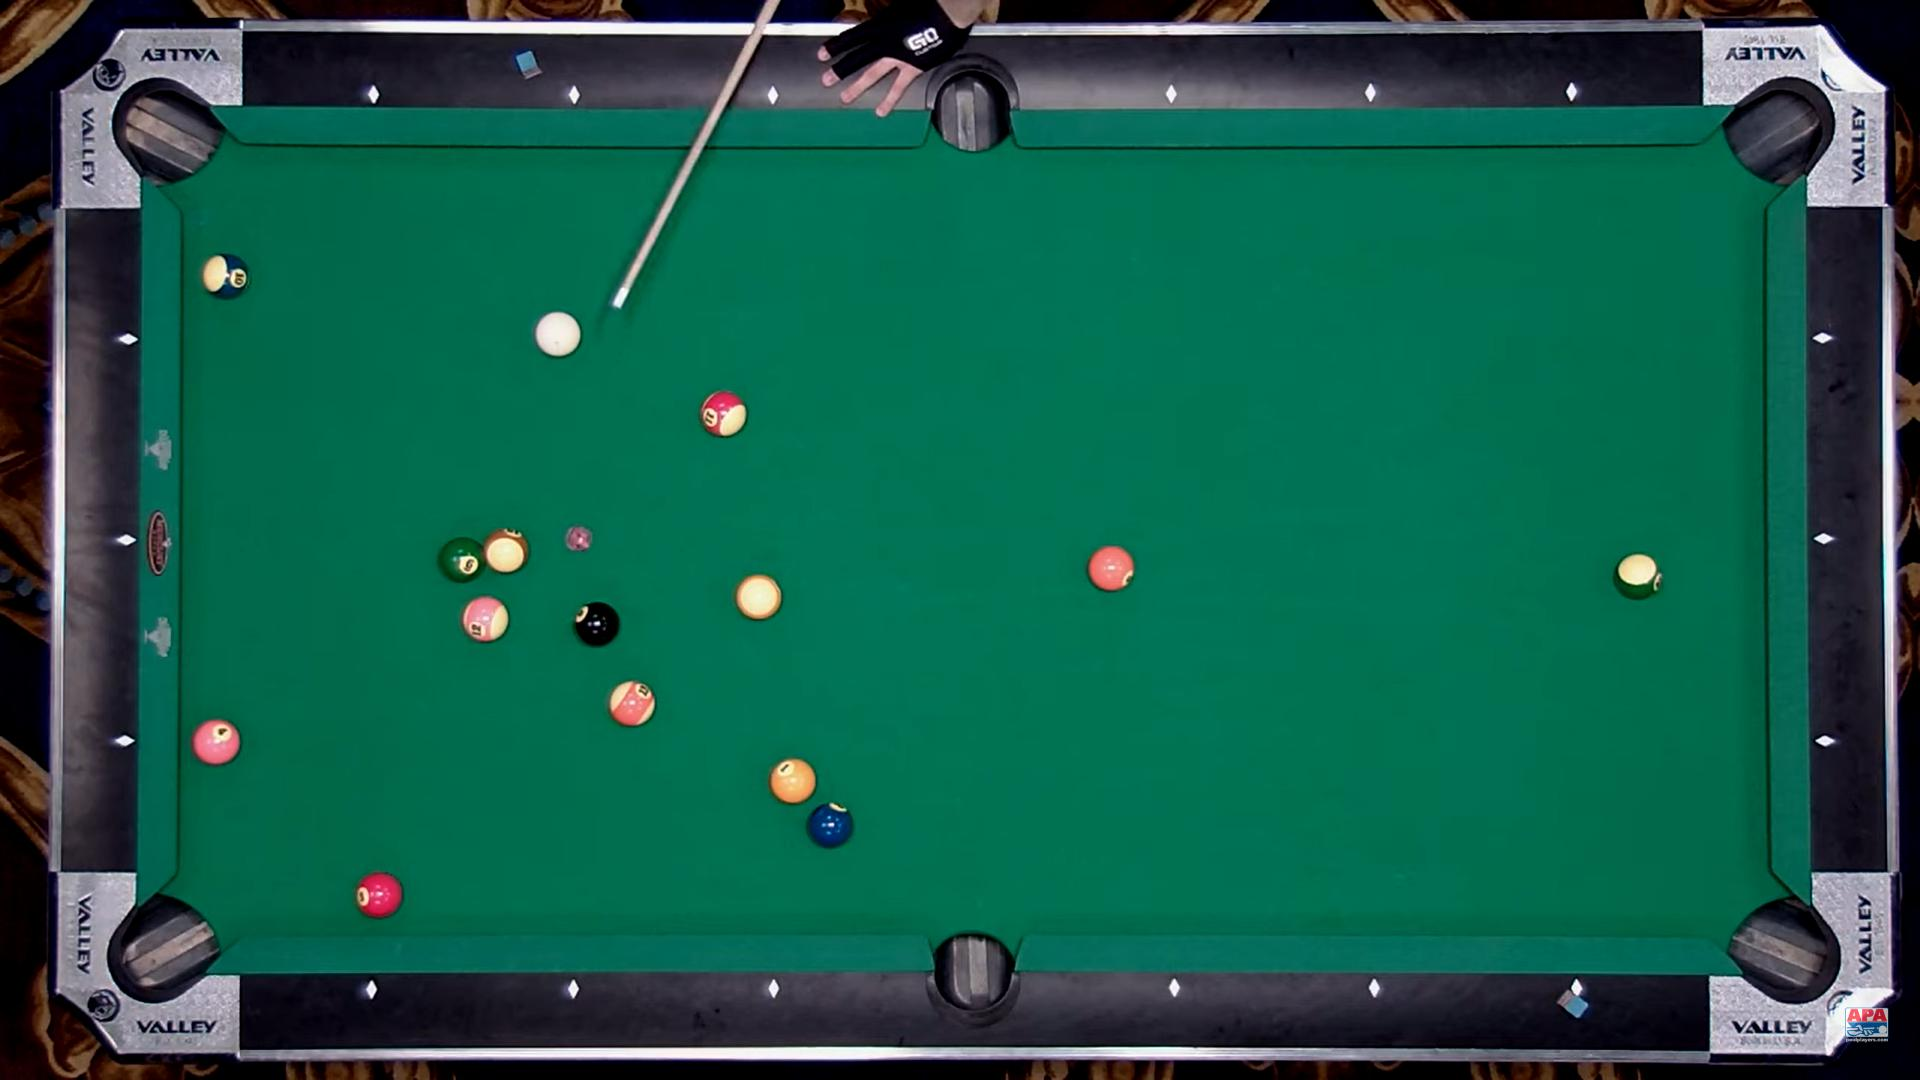Black: (575, 602, 620, 646)
Cue: (535, 312, 581, 356)
Dot: (1363, 86, 1378, 100), (1569, 982, 1583, 997), (1366, 981, 1380, 996), (1166, 980, 1180, 995), (766, 982, 781, 996), (565, 982, 579, 997), (118, 734, 132, 748), (120, 534, 134, 548), (120, 331, 134, 345), (366, 86, 380, 100), (568, 89, 582, 103), (767, 89, 781, 103), (1164, 88, 1178, 102), (1566, 85, 1580, 99), (1816, 332, 1830, 346), (1817, 532, 1831, 546), (1818, 735, 1832, 749), (364, 984, 378, 998)
Solid: (438, 537, 487, 583), (807, 802, 854, 848), (356, 872, 402, 918), (194, 720, 242, 764), (1088, 545, 1134, 590), (770, 758, 816, 803)
Striped: (1614, 552, 1664, 601), (700, 391, 748, 438), (202, 254, 250, 300), (462, 597, 510, 642), (736, 574, 782, 620), (484, 528, 529, 574)
